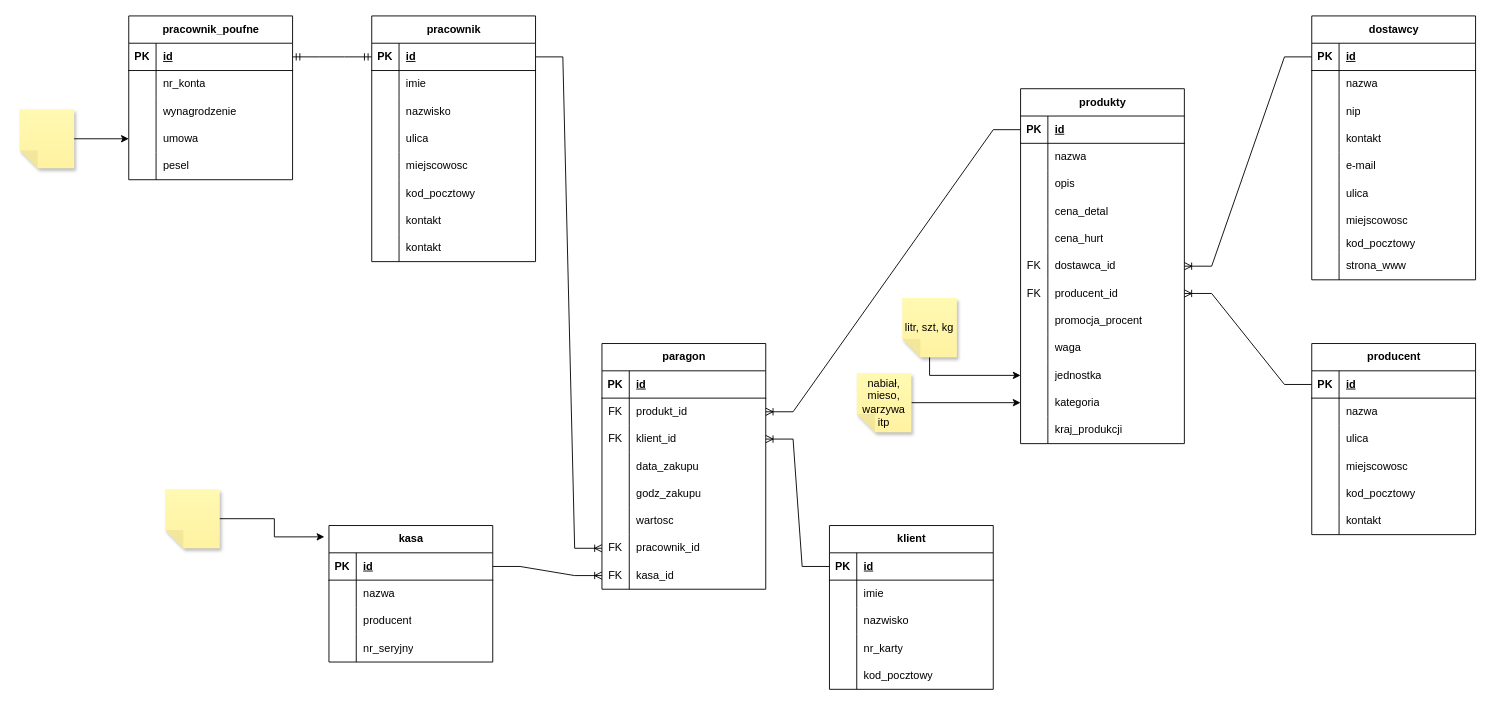
This 1491x705 diagram has some shape labels left out. Here are the shapes that lost their labels. From the top down, the centre of each, then its label:
At (47,139): "uzl, uop".
At (193,519): "jedno urządzenie".
